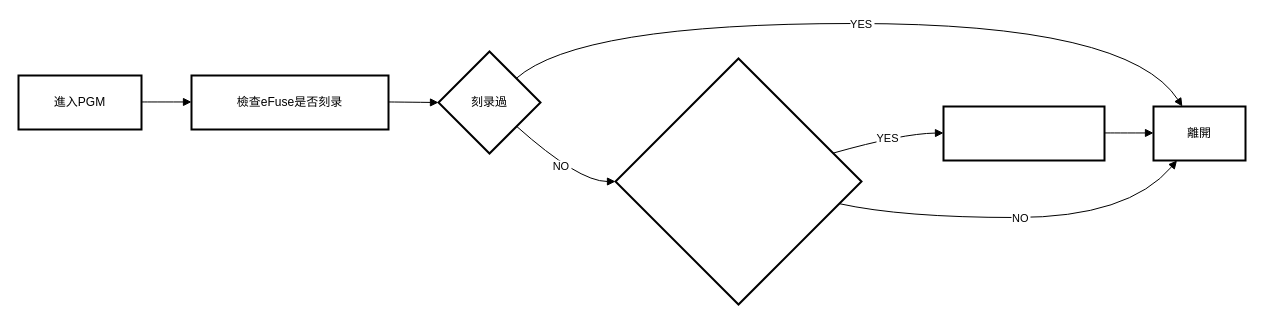
Some shapes in this 1263 by 322 pixel diagram are drawn without their labels. The shapes that lost their labels are listed below. From the top down, each one's box as (x1, y1, x2, y2) in pixels, then its label:
(942, 105, 1105, 161): 寫入Default值
(614, 57, 862, 305): 是否要寫入預設值(Default)
